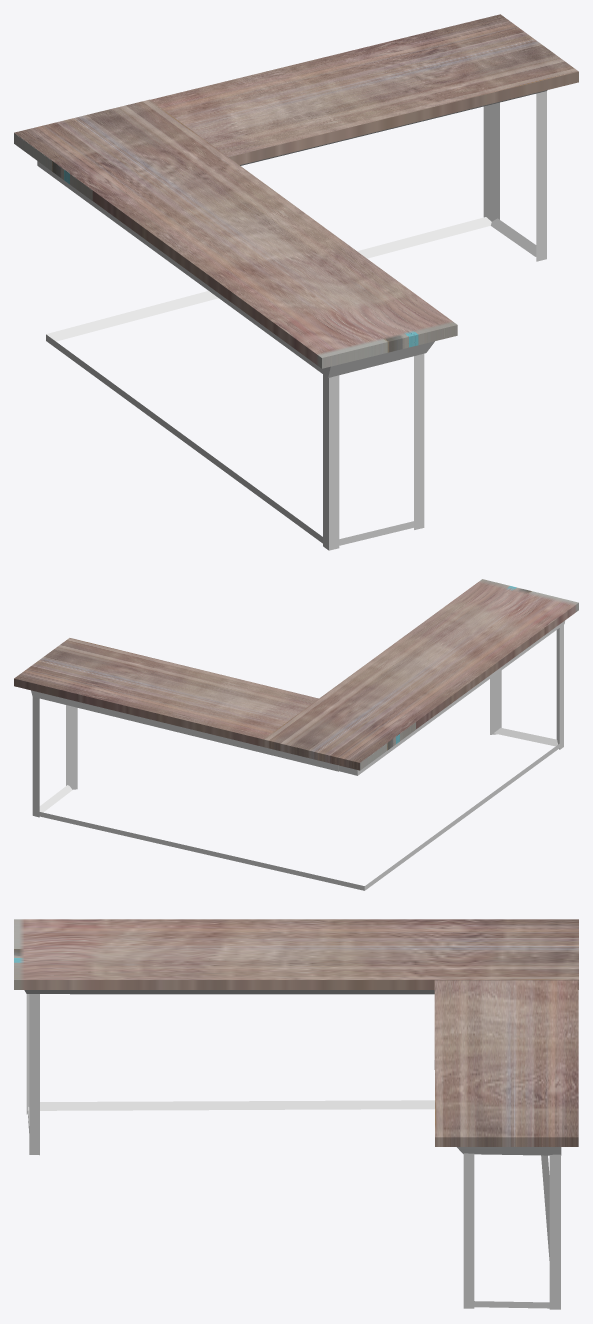
File: desk.glb
3 views of the same model, one above another, from view 1: azimuth 30°, elevation 25°; view 2: azimuth 150°, elevation 25°; view 3: azimuth 270°, elevation 25° (orthographic). The views are drawn at different scales.
Parts seen in each view (by area): view 1: Cube; view 2: Cube; view 3: Cube.
Part boxes in pixels (left/top/right/bottom): Cube: left=14, top=14, right=578, bottom=550; Cube: left=14, top=579, right=578, bottom=890; Cube: left=14, top=919, right=578, bottom=1309.
Bounding box in the file's own units: 7.74 × 3.09 × 8.49.
2 materials, 1 textured.
